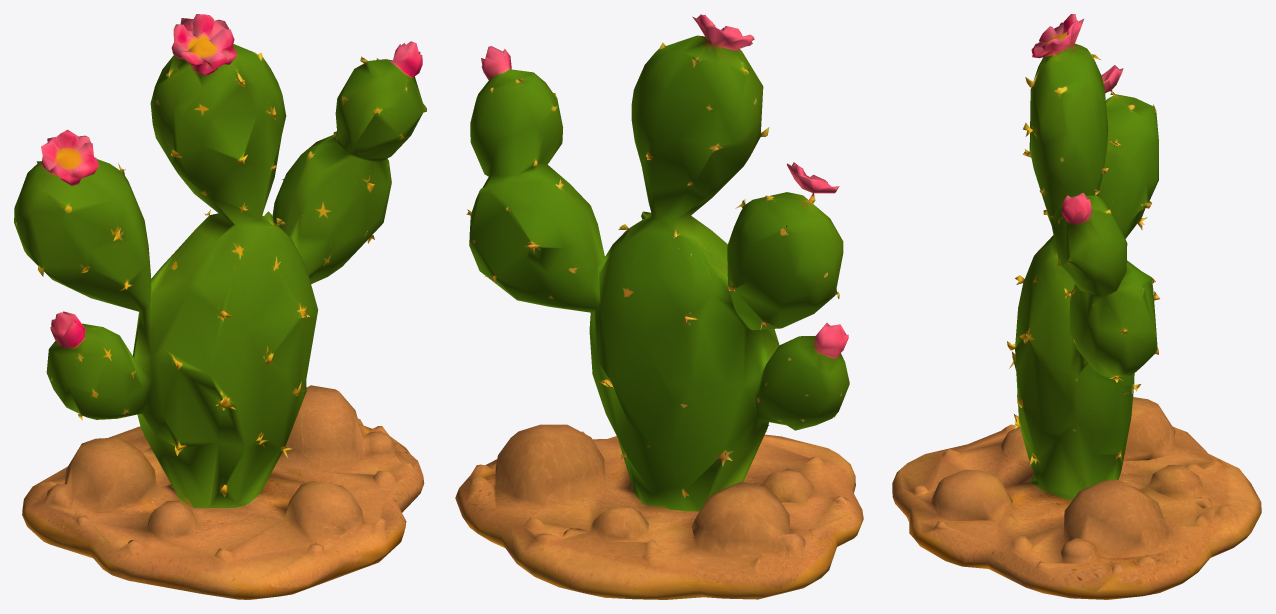
Rendered from Meshy_AI_Desert_Bloom_Cactus_0512182217_texture.fbx.
3 renders of one model, left to right at view 1: azimuth 30°, elevation 25°; view 2: azimuth 150°, elevation 25°; view 3: azimuth 270°, elevation 25°, orthographic. The views are drawn at different scales.
Parts seen in each view (by area): view 1: Mesh_0; view 2: Mesh_0; view 3: Mesh_0.
Part boxes in pixels (box(x1,y1,x2,y2)): Mesh_0: box(14, 14, 426, 599); Mesh_0: box(455, 14, 863, 599); Mesh_0: box(892, 14, 1261, 599).
Size of the model in its own units: 148 by 191 by 132.
1 material, 1 textured.
